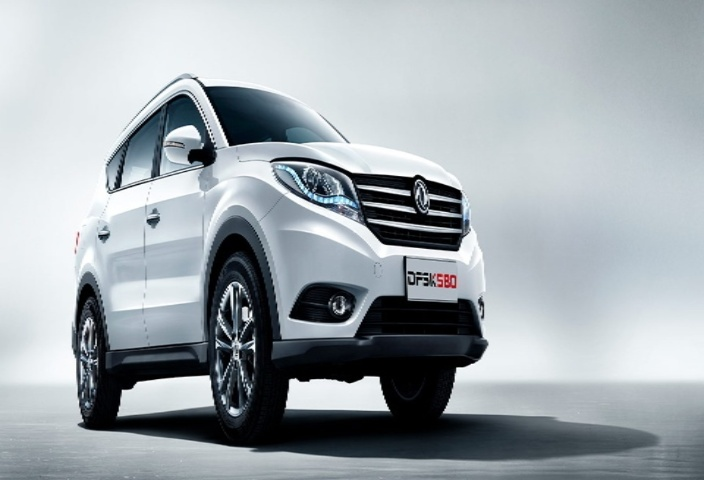camper: (45, 86, 490, 436)
